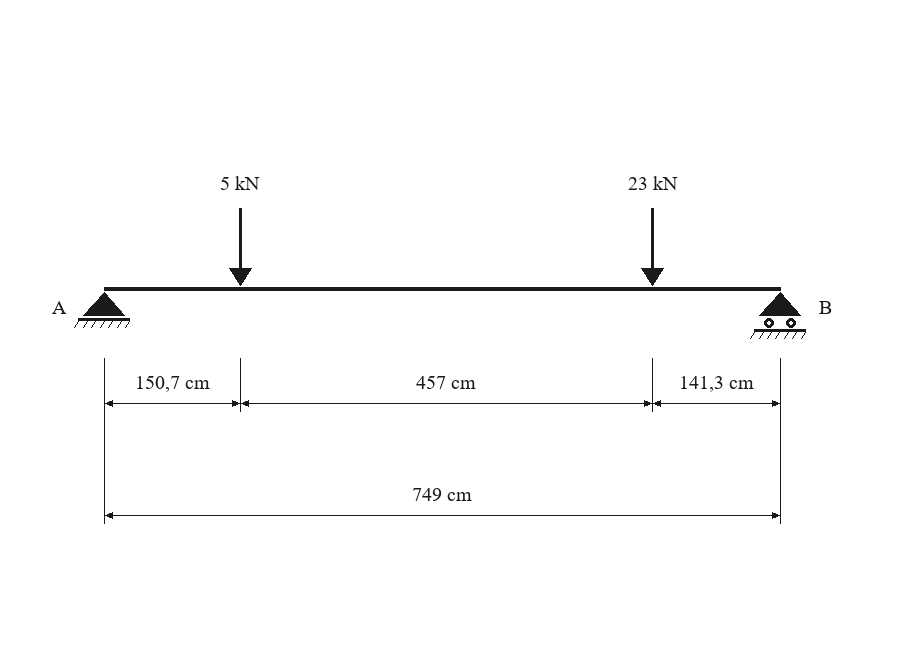pin_support: (74, 292, 130, 328)
point_load: (229, 208, 252, 286), (641, 208, 664, 286)
roller_support: (750, 292, 806, 339)
